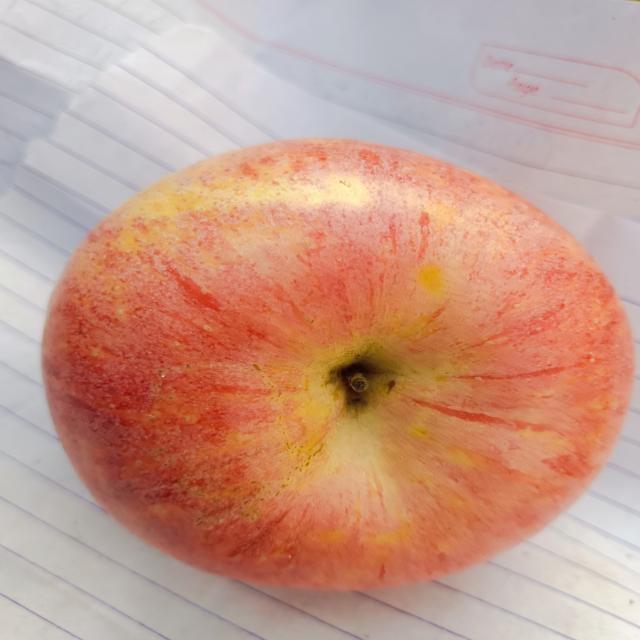Fresh Apple: (39, 144, 627, 594)
